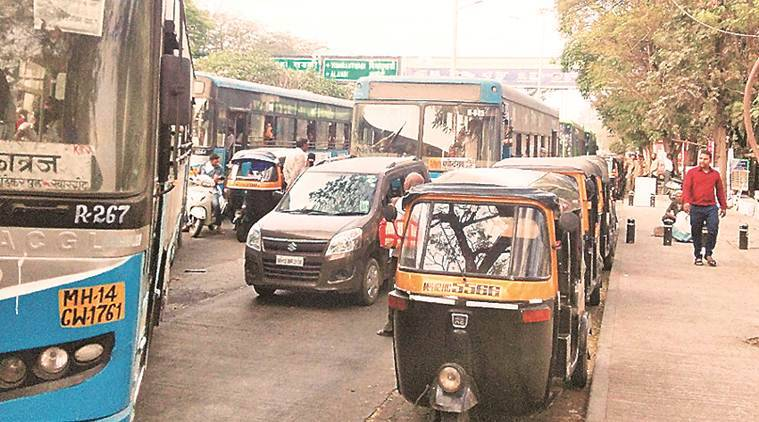bike: (191, 159, 225, 245)
bus: (1, 1, 205, 422), (349, 76, 563, 165), (201, 69, 352, 150)
car: (239, 150, 425, 312)
rickshaw: (382, 172, 586, 422), (223, 142, 296, 227)
